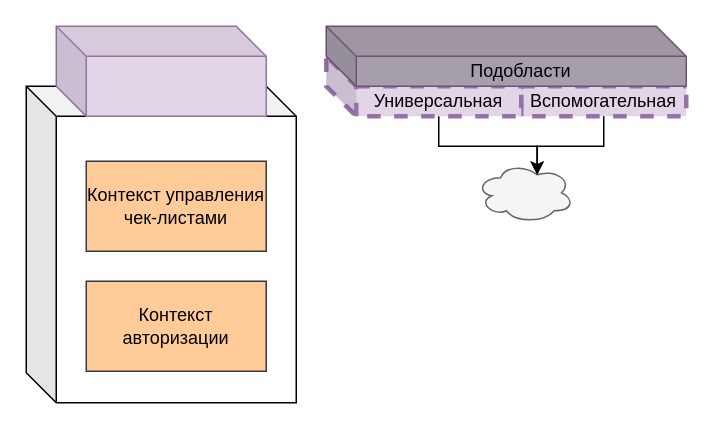
Image size: 714x429. Some labels were removed from this diagram. Each missing label, with the box of its shape:
пустая: (475, 161, 574, 223)
Смысловое ядро: (55, 25, 266, 116)
